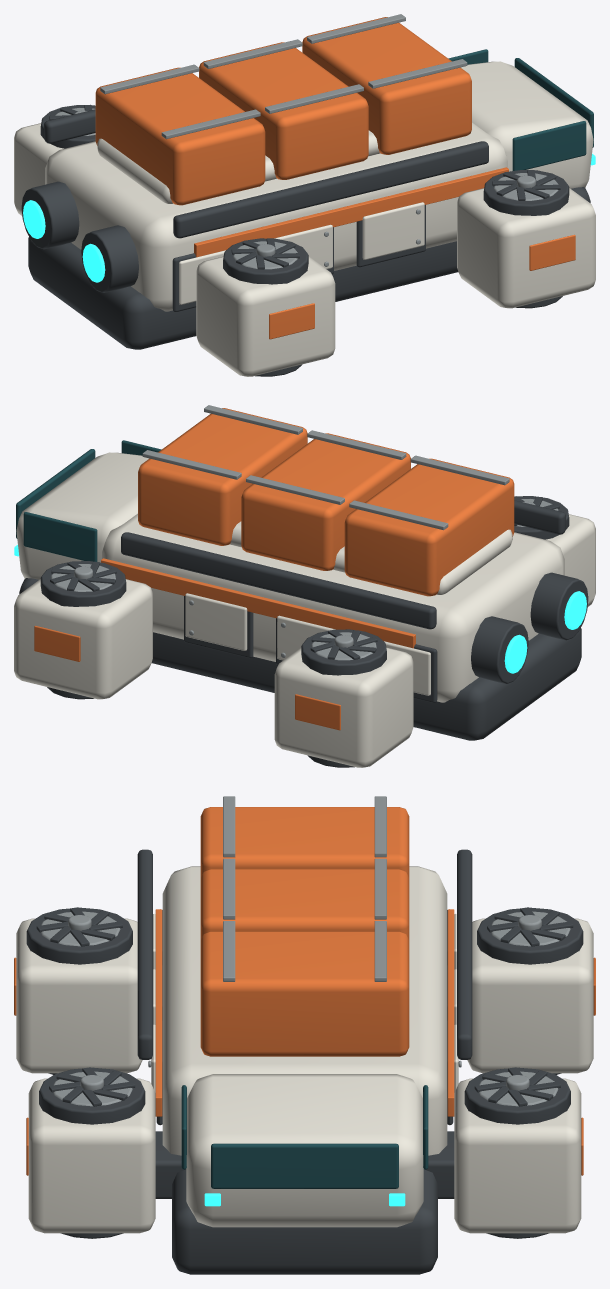
The model's file is SM_FrontierSupplies_Body.fbx.
3 views of the same model, one above another, from view 1: azimuth 30°, elevation 25°; view 2: azimuth 150°, elevation 25°; view 3: azimuth 270°, elevation 25° (orthographic). The views are drawn at different scales.
Parts seen in each view (by area): view 1: SM_FrontierSupplies_Body.001; view 2: SM_FrontierSupplies_Body.001; view 3: SM_FrontierSupplies_Body.001.
Part boxes in pixels (box(x1,y1,x2,y2)): SM_FrontierSupplies_Body.001: box(14, 14, 595, 376); SM_FrontierSupplies_Body.001: box(14, 405, 595, 767); SM_FrontierSupplies_Body.001: box(14, 796, 595, 1274).
Size of the model in its own units: 34470 by 28440 by 13035.
